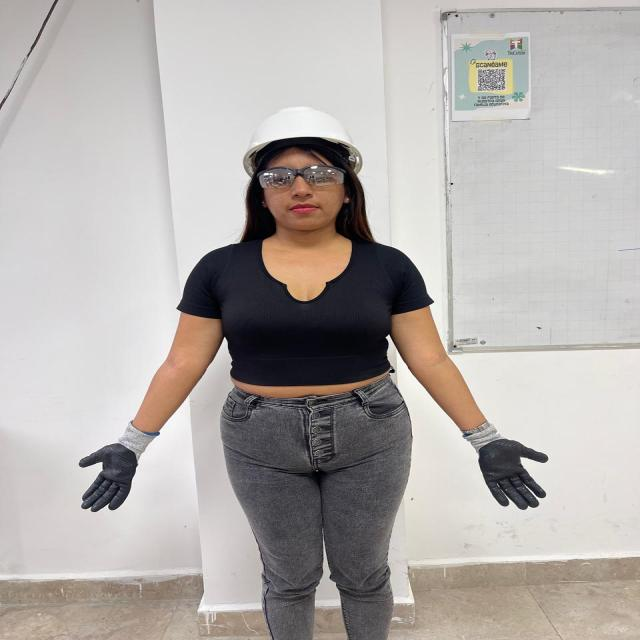gloves: (75, 420, 161, 513), (464, 425, 550, 512)
helmet: (244, 107, 365, 178)
protective_glasses: (257, 165, 346, 189)
